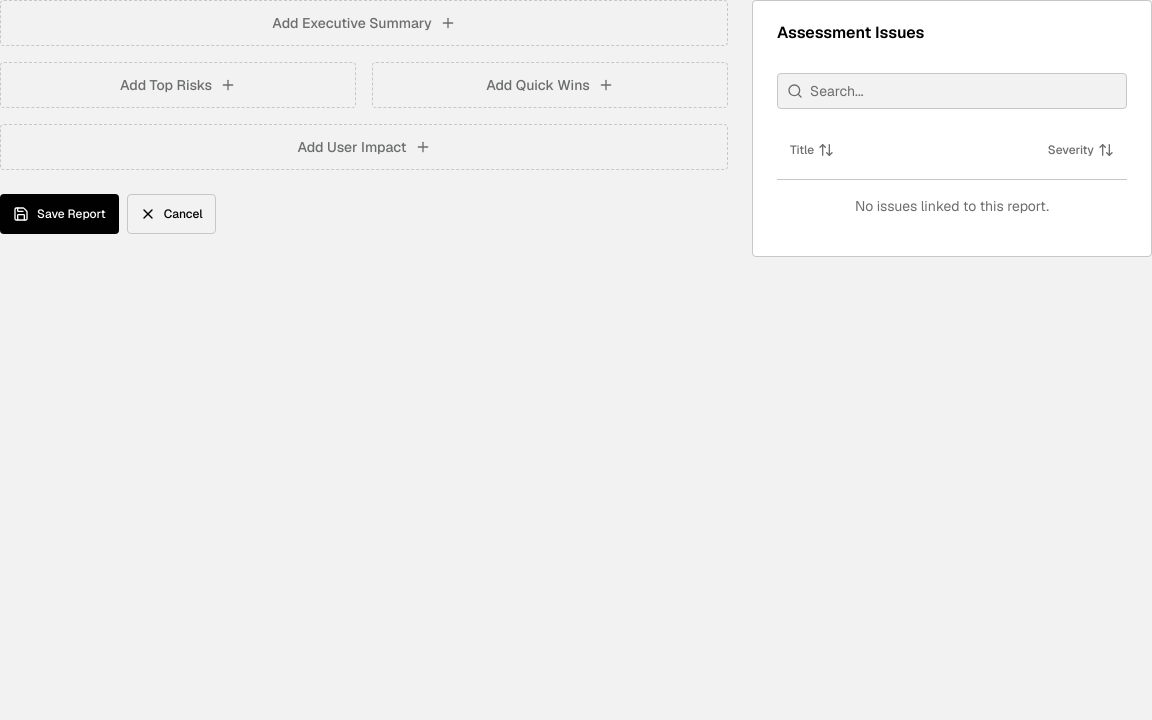
Test case: ReportEditForm › removes section after delete confirmed
Click the button "Add Executive Summary".
click(364, 23)  # box [0,0,728,46]
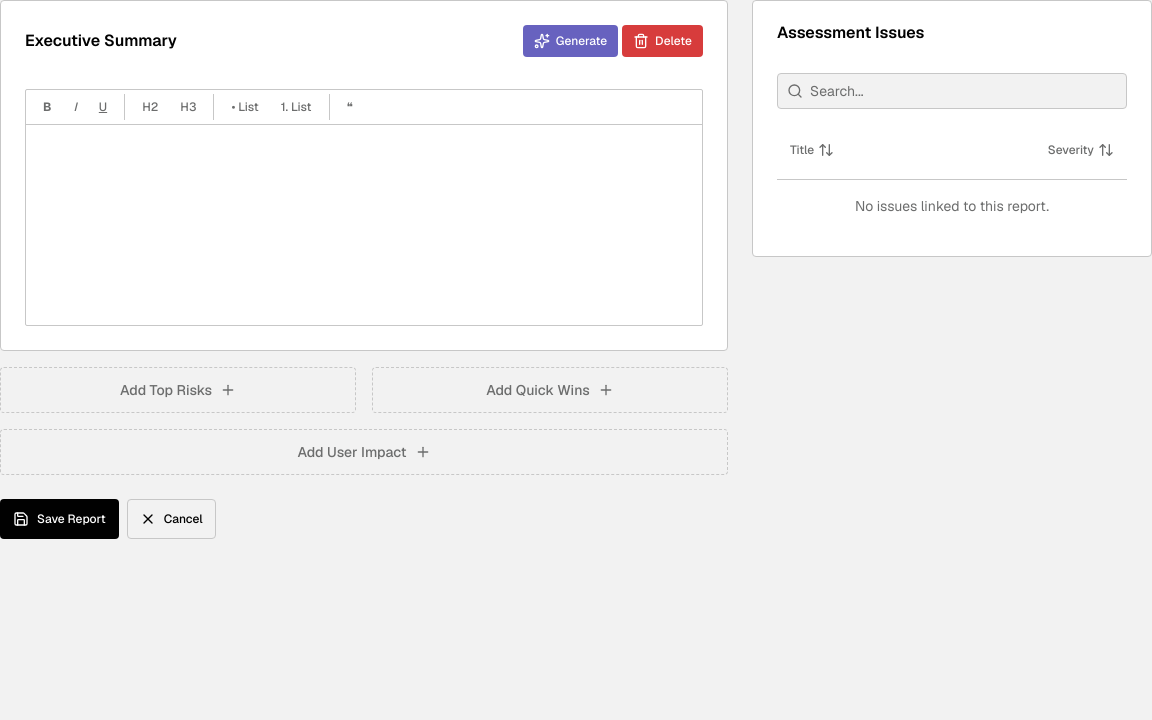
Click the button "Delete".
click(663, 41)  # box [622,25,703,57]
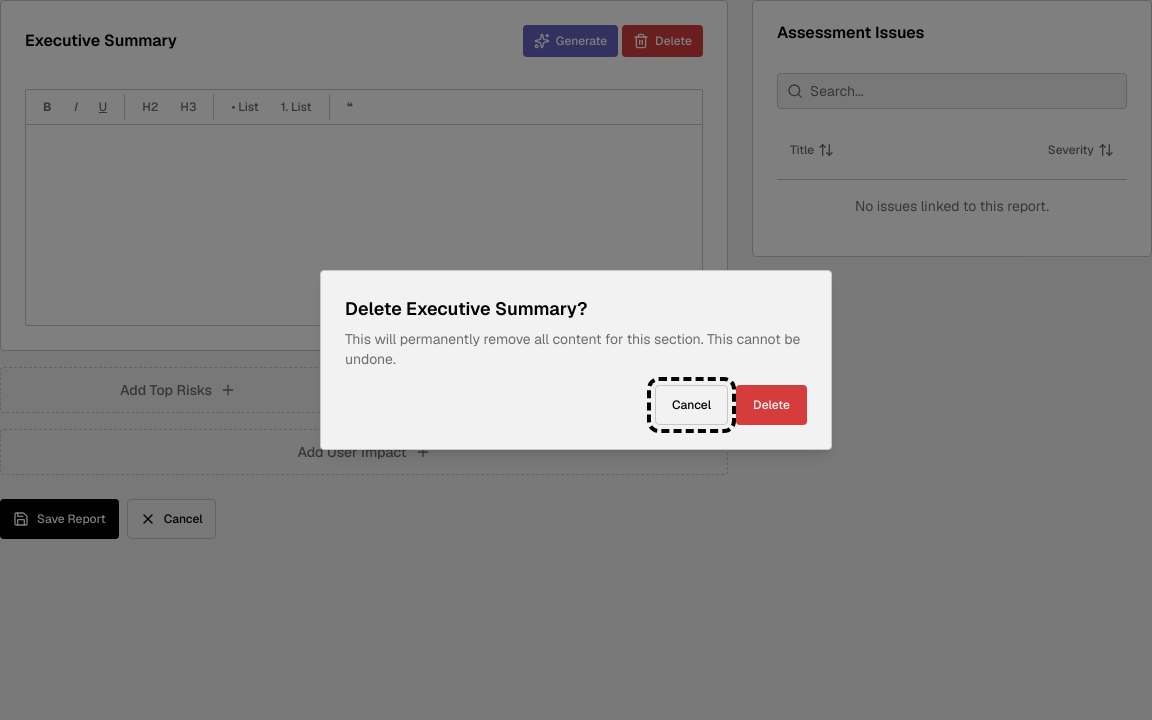
Check: the text "permanently remove" is shown, box [345,330,800,368]
Click the button "Delete".
click(772, 405)  # box [736,385,807,425]
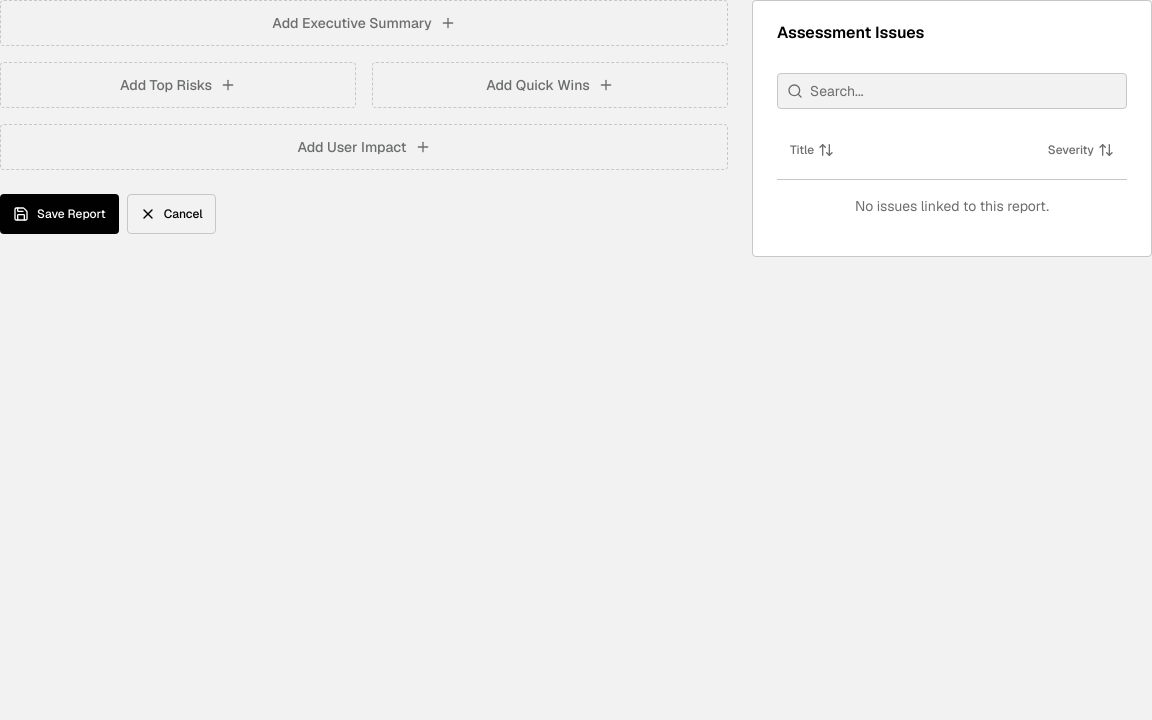
Check: the button "Add Executive Summary" is shown, box [0,0,728,46]
